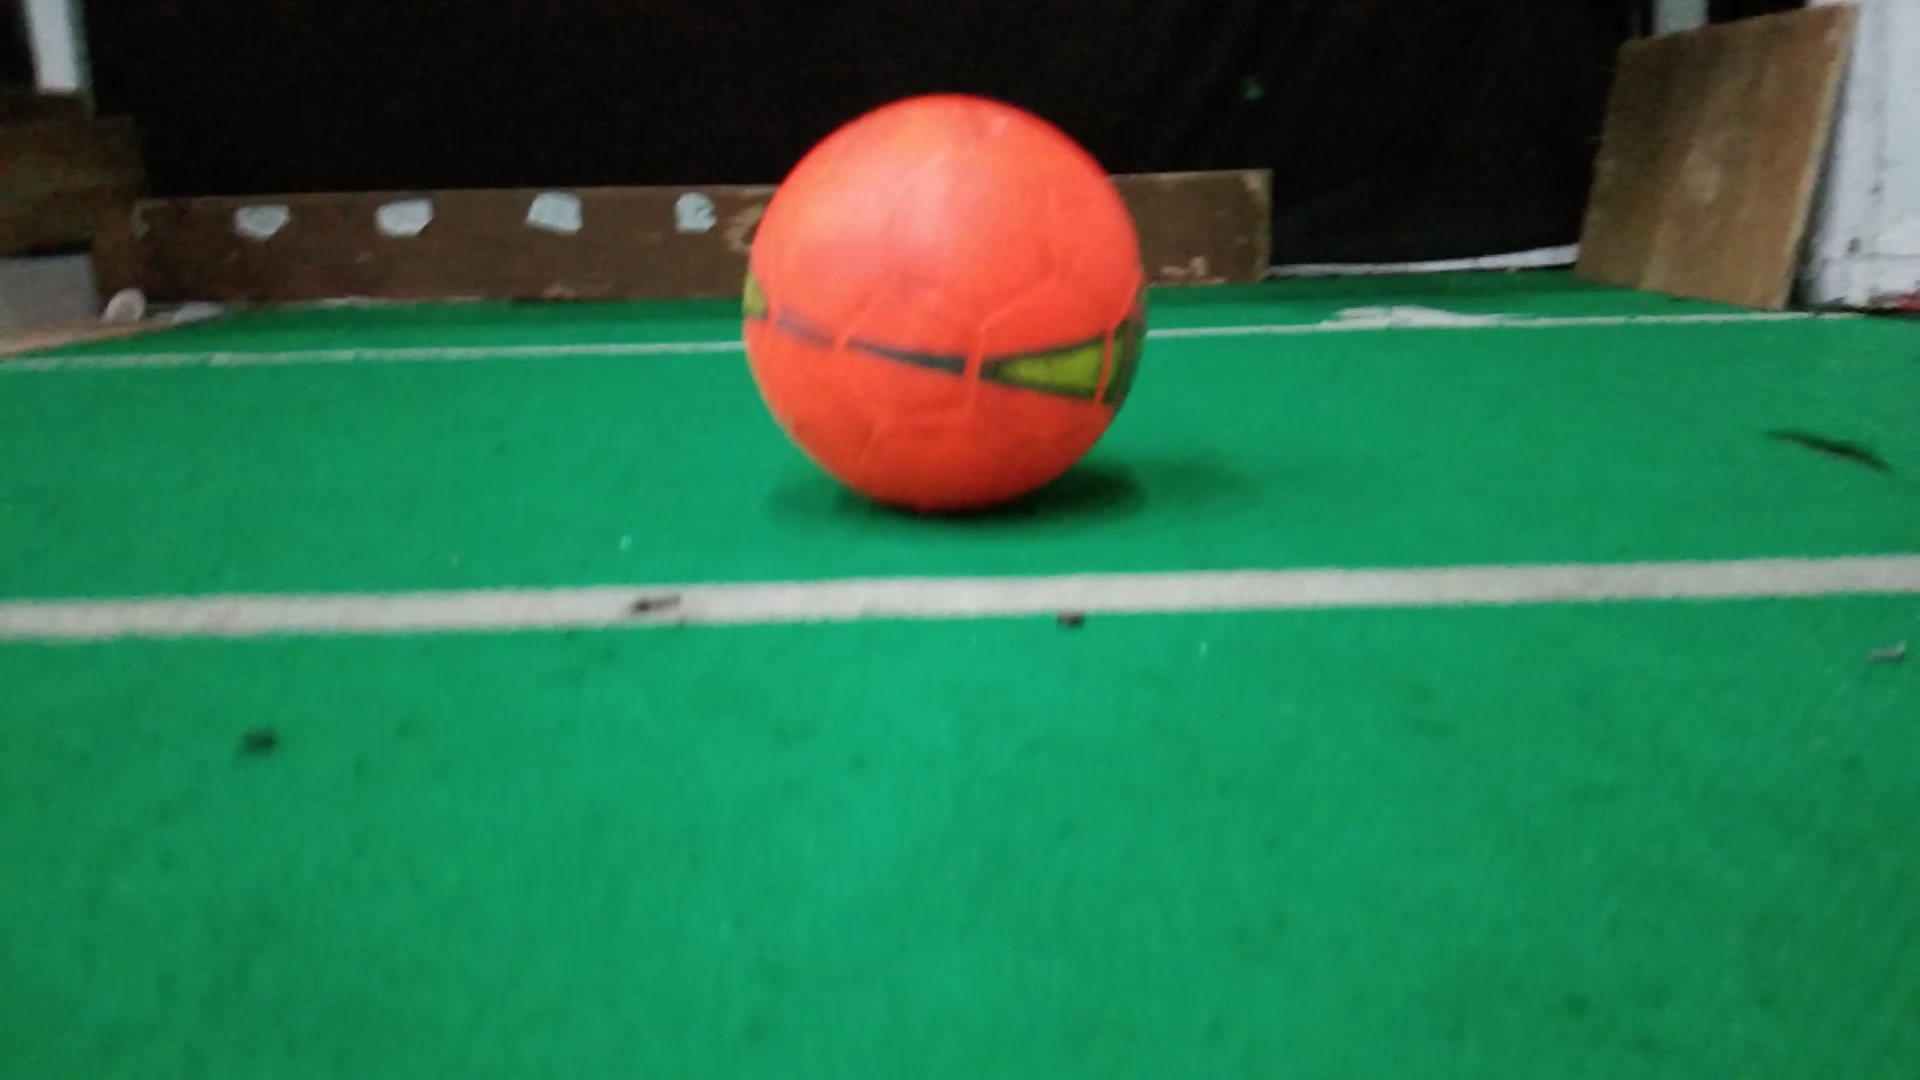bola: (725, 88, 1164, 526)
